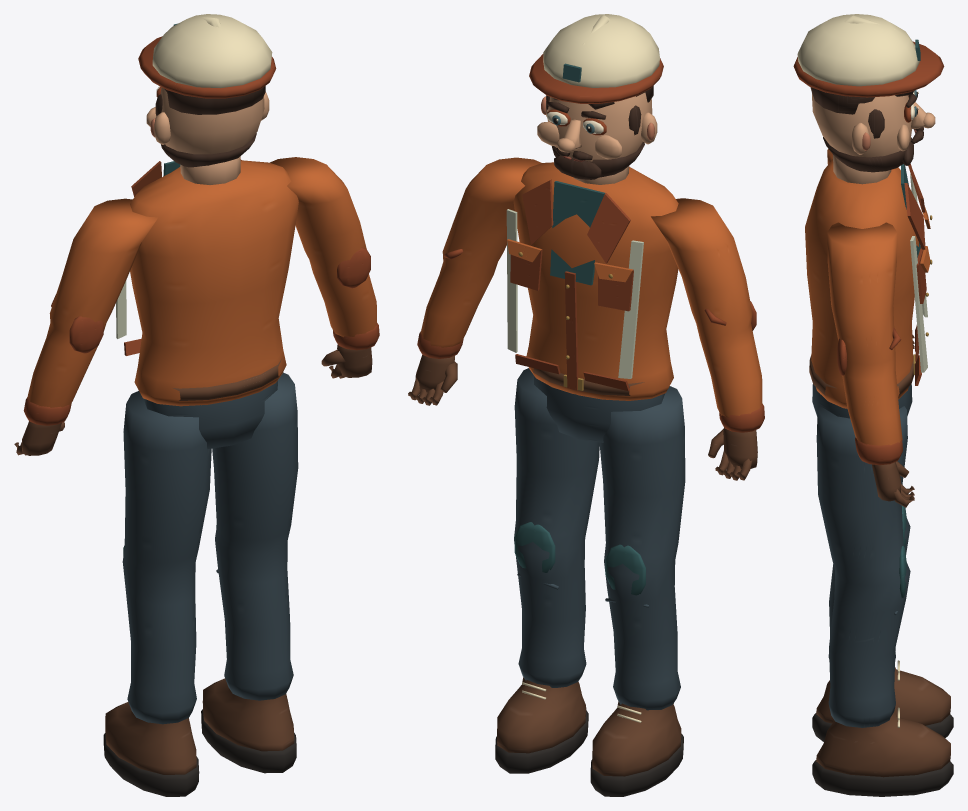
Rendered from Dmitri_Candidate.obj.
The picture shows the model from 3 angles, left to right: view 1: azimuth 30°, elevation 25°; view 2: azimuth 150°, elevation 25°; view 3: azimuth 270°, elevation 25°; orthographic projection. The views are drawn at different scales.
Visible parts, largest first — view 1: Dmitri_Candidate_Mesh; view 2: Dmitri_Candidate_Mesh; view 3: Dmitri_Candidate_Mesh.
Boxes of the visible parts, x1,y1,x2,y2 form: Dmitri_Candidate_Mesh: (14,14,379,796); Dmitri_Candidate_Mesh: (408,14,764,796); Dmitri_Candidate_Mesh: (793,14,953,796).
Size of the model in its own units: 0.91 by 1.87 by 0.365.
Materials: 1 (1 with a texture image).
